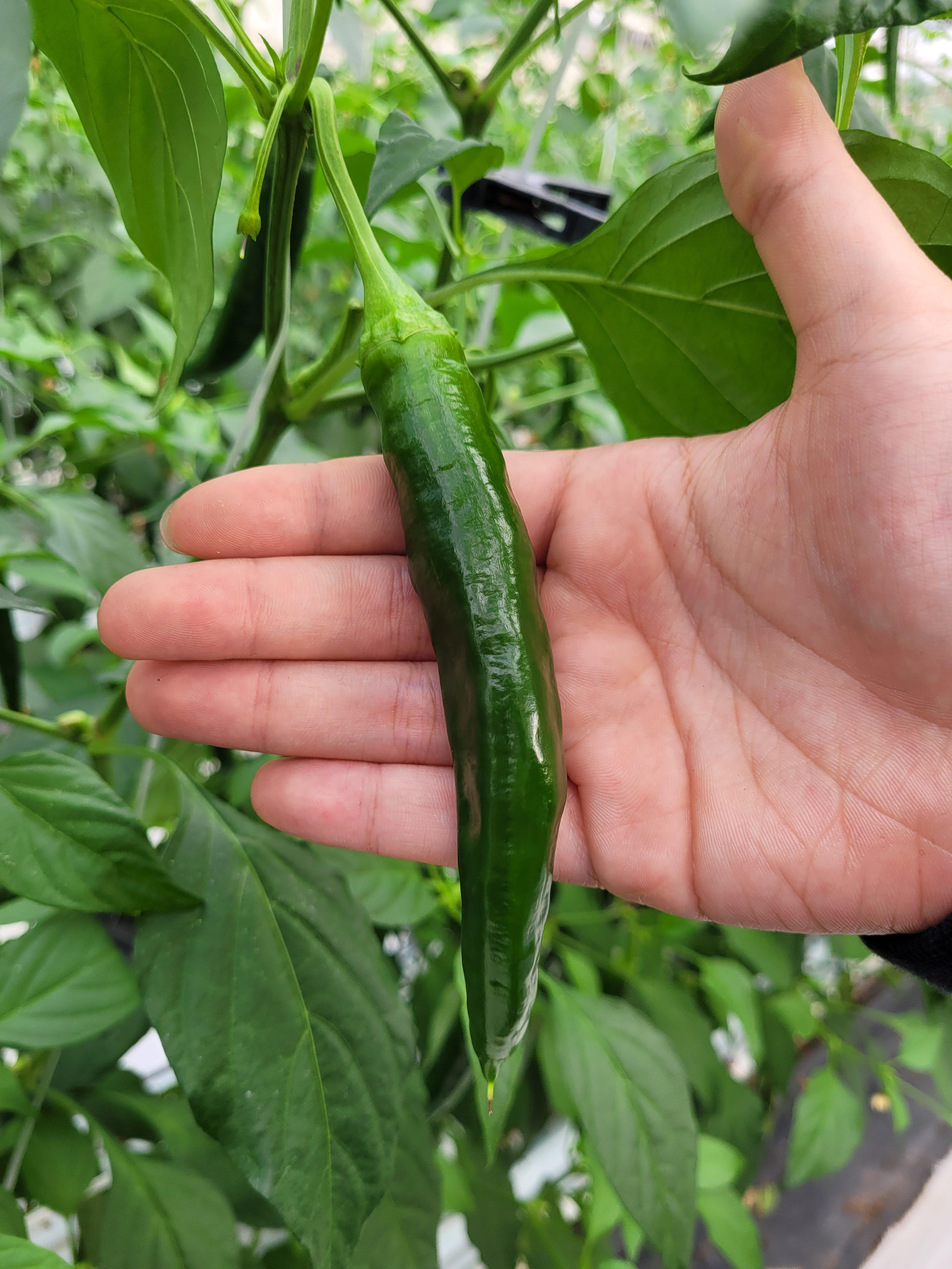Buah Cabai Sehat: (352, 272, 576, 1125)
Daun Cabai Sehat: (135, 785, 422, 1269), (0, 740, 211, 921)
